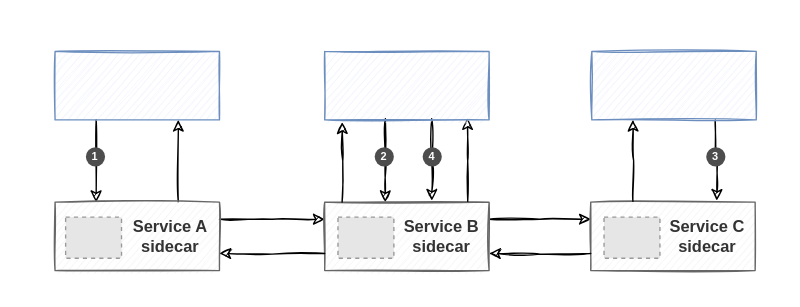
Image size: 800x307. Some labels were removed from this diagram. Grey dashed boxes stand in for pictures. Here are the shapes that lost their labels. From the top down, the centre of each, then its label:
pixel 136 85: Service A
pixel 406 85: Service B
pixel 673 85: Service C
